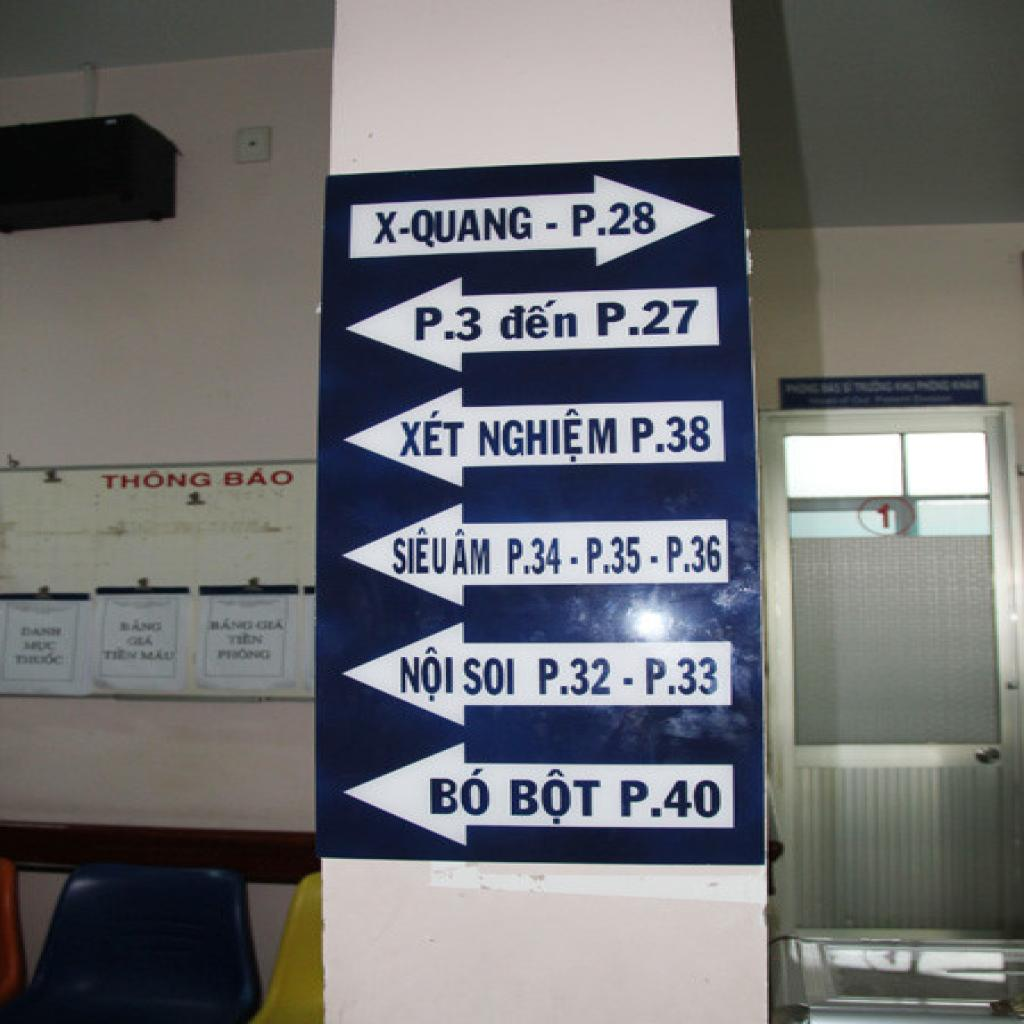text: (478, 407, 621, 466), (507, 767, 603, 827), (410, 205, 534, 250), (619, 779, 724, 820), (596, 298, 703, 338), (498, 296, 580, 342), (398, 646, 458, 703), (398, 410, 469, 458), (571, 200, 658, 239), (425, 768, 494, 817), (630, 415, 714, 455), (537, 657, 614, 697), (644, 657, 721, 697), (392, 526, 448, 577), (100, 468, 214, 492), (414, 306, 485, 343), (664, 534, 726, 575), (585, 536, 644, 576), (462, 656, 519, 697), (506, 537, 564, 577), (450, 527, 494, 577), (223, 466, 296, 489), (373, 212, 412, 245), (216, 646, 276, 660), (14, 652, 68, 667), (118, 619, 166, 633), (209, 617, 255, 631), (226, 631, 266, 646), (20, 626, 66, 638), (255, 617, 289, 631), (125, 634, 157, 648), (23, 641, 61, 652)
